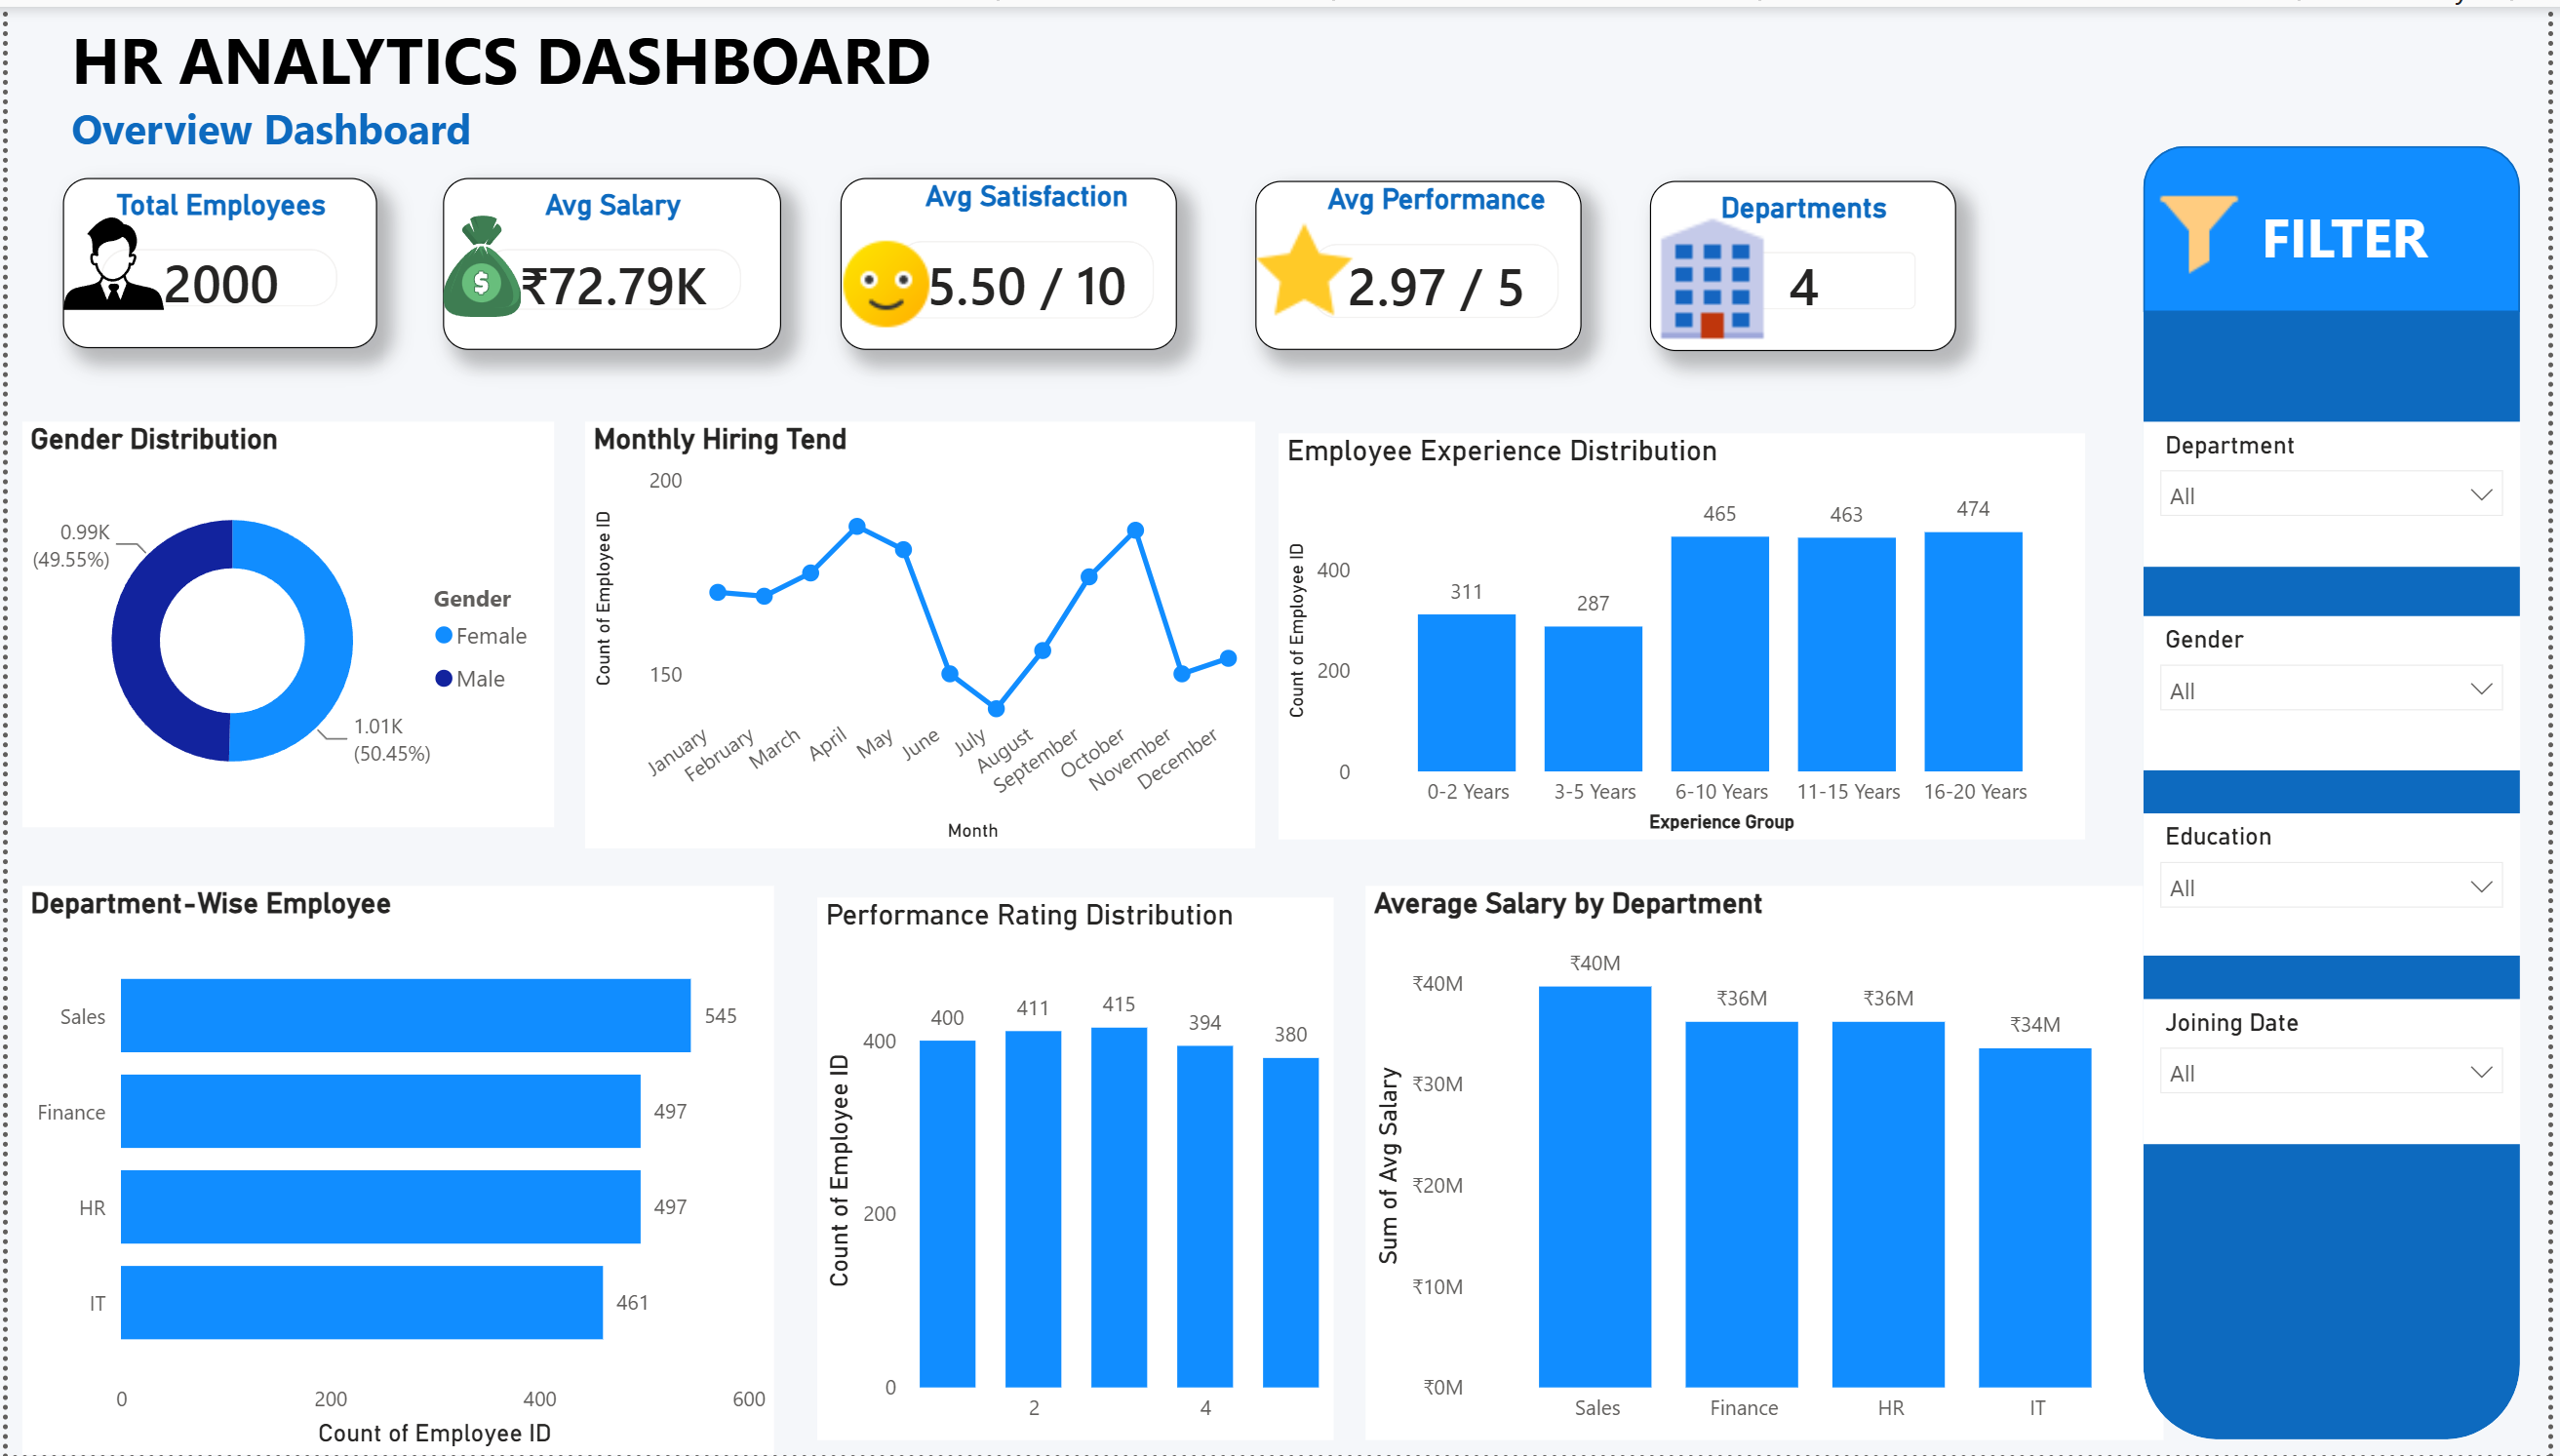

The page's visual inventory and layout, read from the dashboard file:
{"tool":"powerbi","page":{"name":"Overview","canvas":[1495,852],"ordinal":0},"visuals":[{"type":"textbox","box":[32.4,0,529.3,100.7],"z":0},{"type":"cardVisual","title":"Total Employees","fields":{"Data":["Sheet (3).Total Employees"]},"box":[33.2,101.2,185,100],"z":1000},{"type":"cardVisual","title":"Avg Salary","fields":{"Data":["Avg(Sheet (3).Avg Salary)"]},"box":[256.6,101.2,199,101.2],"z":2000},{"type":"cardVisual","title":"Avg Satisfaction","fields":{"Data":["Min(Sheet (3).Avg Satisfaction Display)"]},"box":[490,101.2,198,101.2],"z":3000},{"type":"cardVisual","title":"Avg Performance","fields":{"Data":["Min(Sheet (3).Avg Performance Display)"]},"box":[734.9,103,192,99.5],"z":4000},{"type":"cardVisual","title":"Departments","fields":{"Data":["Count(Sheet (3).Department)"]},"box":[966.3,102.4,180,100],"z":5000},{"type":"donutChart","title":"Gender Distribution","fields":{"Category":["Sheet (3).Gender"],"Y":["CountNonNull(Sheet (3).Employee ID)"]},"box":[8.9,244.5,313.1,238.6],"z":6000},{"type":"lineChart","title":"Monthly Hiring Tend","fields":{"Category":["Sheet (3).Joining Date.Variation.Date Hierarchy.Month"],"Y":["CountNonNull(Sheet (3).Employee ID)"]},"box":[339.8,244.1,394.4,251],"z":7000},{"type":"barChart","title":"Department-Wise Employee","fields":{"Category":["Sheet (3).Department"],"Y":["CountNonNull(Sheet (3).Employee ID)"]},"box":[8.5,517.3,442.2,334.6],"z":8000},{"type":"columnChart","title":"Average Salary by Department","fields":{"Category":["Sheet (3).Department"],"Y":["Sum(Sheet (3).Avg Salary)"]},"box":[799,517.3,469.5,326.1],"z":9000},{"type":"columnChart","title":"Performance Rating Distribution","fields":{"Category":["Sheet (3).Performance"],"Y":["CountNonNull(Sheet (3).Employee ID)"]},"box":[476.3,524.1,303.9,319.3],"z":10000},{"type":"columnChart","title":"Employee Experience Distribution","fields":{"Y":["CountNonNull(Sheet (3).Employee ID)"],"Category":["Sheet (3).Experience Group"]},"box":[747.8,251,474.6,239],"z":11000},{"type":"shape","box":[1256.9,82,221.7,761.1],"z":12000},{"type":"image","box":[33.2,103,59.4,97.8],"z":13000},{"type":"image","box":[256.6,97.8,46,111],"z":14000},{"type":"image","box":[731.4,82,64.6,144.9],"z":15000},{"type":"image","box":[487,82,61,162.3],"z":16000},{"type":"image","box":[963,118,80.3,88],"z":17000},{"type":"slicer","fields":{"Values":["Sheet (3).Department"]},"box":[1256.9,244.4,221.7,85.5],"z":18000},{"type":"shape","box":[1256.9,82,221.7,97.8],"z":19000},{"type":"slicer","fields":{"Values":["Sheet (3).Education"]},"box":[1256.9,474.8,221.7,83.8],"z":20000},{"type":"slicer","fields":{"Values":["Sheet (3).Gender"]},"box":[1256.9,357.9,221.7,90.8],"z":21000},{"type":"slicer","fields":{"Values":["Sheet (3).Joining Date"]},"box":[1256.9,583.1,221.7,85.5],"z":22000},{"type":"textbox","box":[1256.9,99.5,221.7,62.8],"z":23000},{"type":"image","box":[1192.3,104.7,195.5,57.6],"z":24000}]}

Visuals, with their boxes in screenshot pixels (x1, y1, x2, y2), scaled from the page's 1495x852 canvas onto the 2560x1456 screenshot:
textbox: Rect(56, 0, 962, 172)
"Total Employees" cardVisual: Rect(57, 173, 374, 344)
"Avg Salary" cardVisual: Rect(440, 173, 780, 346)
"Avg Satisfaction" cardVisual: Rect(839, 173, 1178, 346)
"Avg Performance" cardVisual: Rect(1258, 176, 1588, 346)
"Departments" cardVisual: Rect(1655, 175, 1963, 346)
"Gender Distribution" donutChart: Rect(16, 417, 551, 826)
"Monthly Hiring Tend" lineChart: Rect(582, 417, 1257, 846)
"Department-Wise Employee" barChart: Rect(15, 884, 771, 1455)
"Average Salary by Department" columnChart: Rect(1368, 884, 2172, 1441)
"Performance Rating Distribution" columnChart: Rect(815, 895, 1336, 1441)
"Employee Experience Distribution" columnChart: Rect(1280, 429, 2093, 838)
shape: Rect(2152, 140, 2532, 1440)
image: Rect(57, 176, 159, 343)
image: Rect(440, 167, 518, 357)
image: Rect(1252, 140, 1363, 388)
image: Rect(834, 140, 938, 417)
image: Rect(1649, 202, 1787, 352)
slicer - Sheet (3).Department: Rect(2152, 417, 2532, 564)
shape: Rect(2152, 140, 2532, 307)
slicer - Sheet (3).Education: Rect(2152, 811, 2532, 955)
slicer - Sheet (3).Gender: Rect(2152, 611, 2532, 767)
slicer - Sheet (3).Joining Date: Rect(2152, 997, 2532, 1143)
textbox: Rect(2152, 170, 2532, 277)
image: Rect(2042, 178, 2377, 277)
